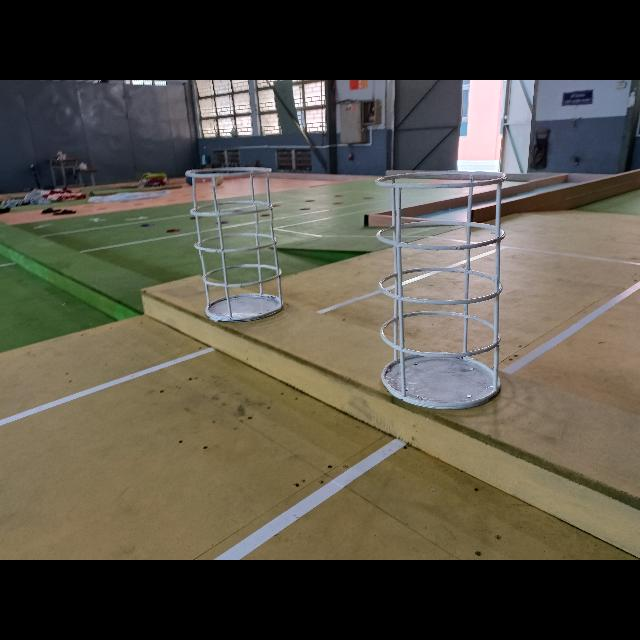S: (374, 170, 506, 410), (185, 165, 285, 323)
